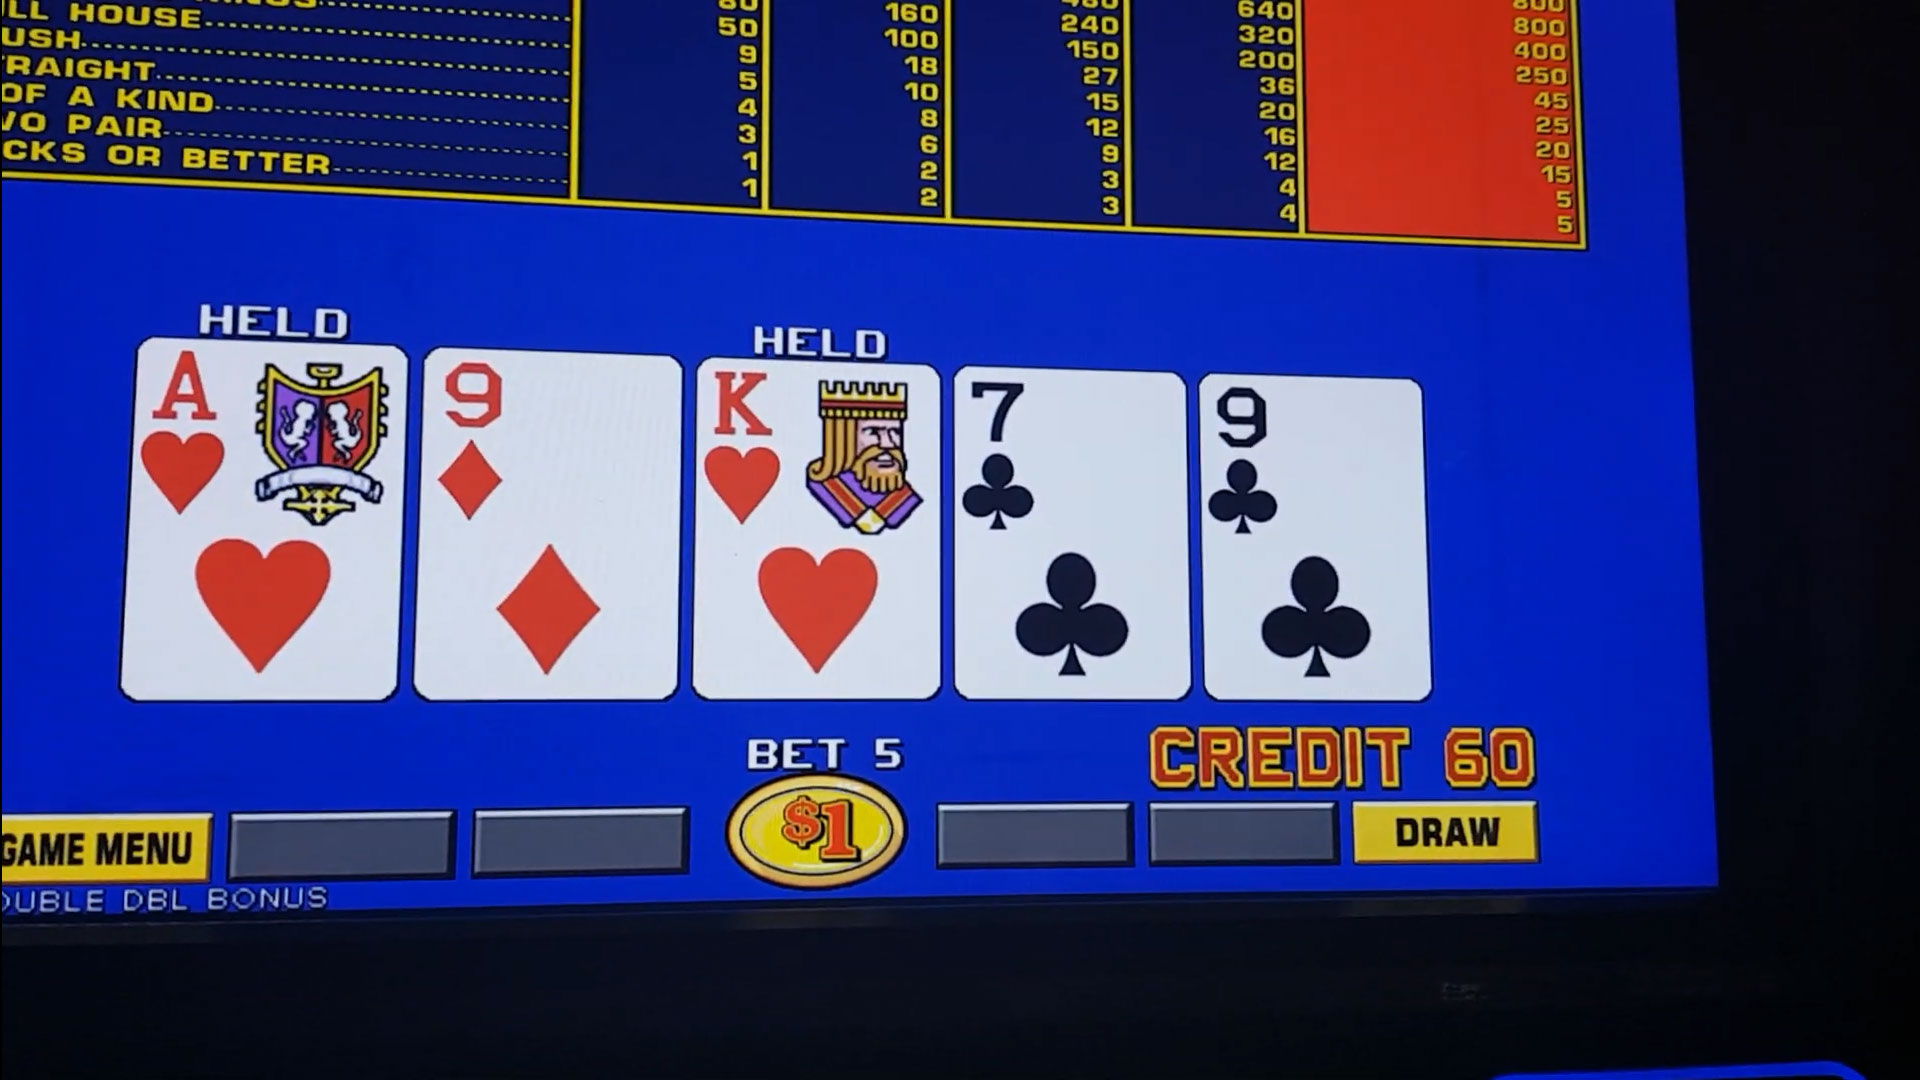C7: (957, 378, 1185, 537)
C9: (1205, 382, 1418, 538)
D9: (431, 360, 675, 530)
HA: (138, 348, 400, 524)
HK: (699, 367, 938, 538)
